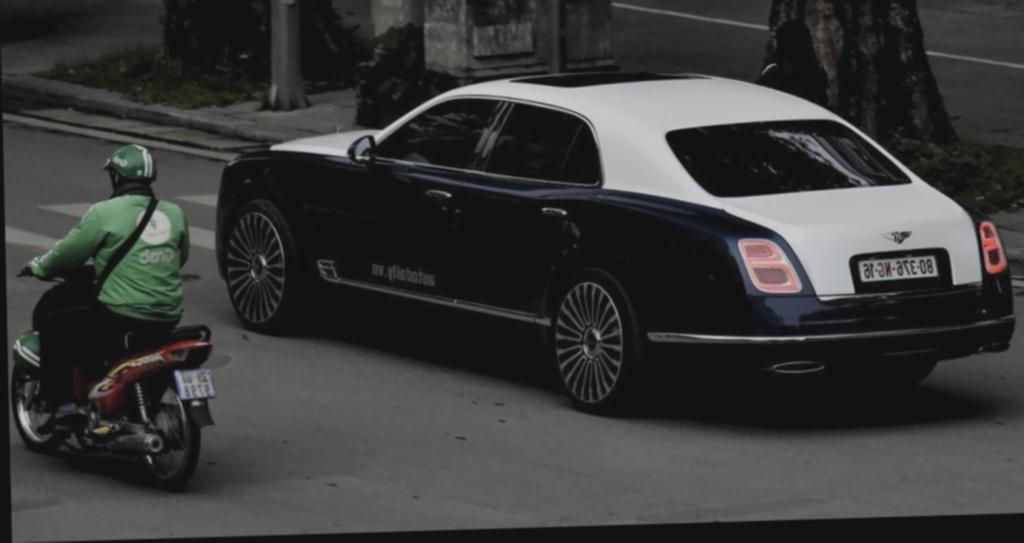License_Plate: (859, 253, 947, 286), (171, 363, 215, 403)
